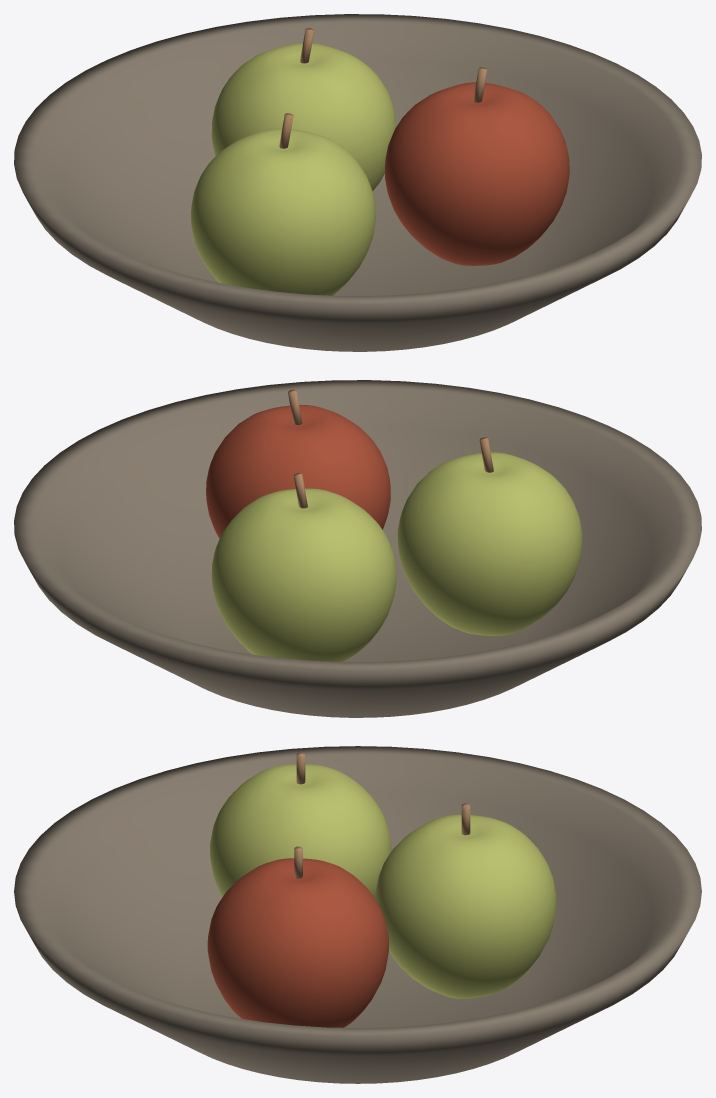
File: contemporary.fruit_bowl.gltf
3 renders of one model, top to bottom at view 1: azimuth 30°, elevation 25°; view 2: azimuth 150°, elevation 25°; view 3: azimuth 270°, elevation 25°, orthographic.
Visible parts, largest first — view 1: contemporary.fruit_bowl.stoneware; view 2: contemporary.fruit_bowl.stoneware; view 3: contemporary.fruit_bowl.stoneware.
Part boxes in pixels (box(x1,y1,x2,y2)): contemporary.fruit_bowl.stoneware: box(14, 14, 701, 351); contemporary.fruit_bowl.stoneware: box(14, 380, 701, 717); contemporary.fruit_bowl.stoneware: box(14, 746, 701, 1083).
Size of the model in its own units: 0.3 by 0.0983 by 0.3.
4 materials, 1 textured.
